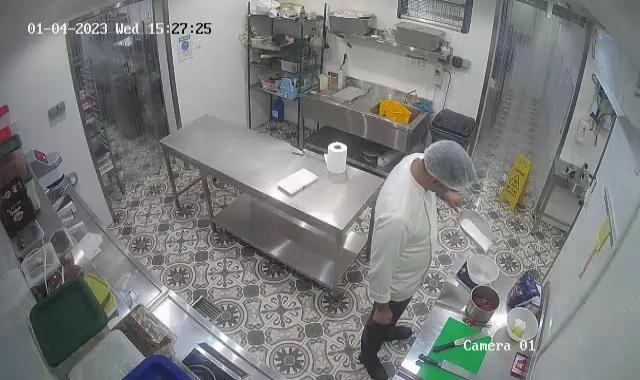hairnet: (420, 137, 481, 192)
